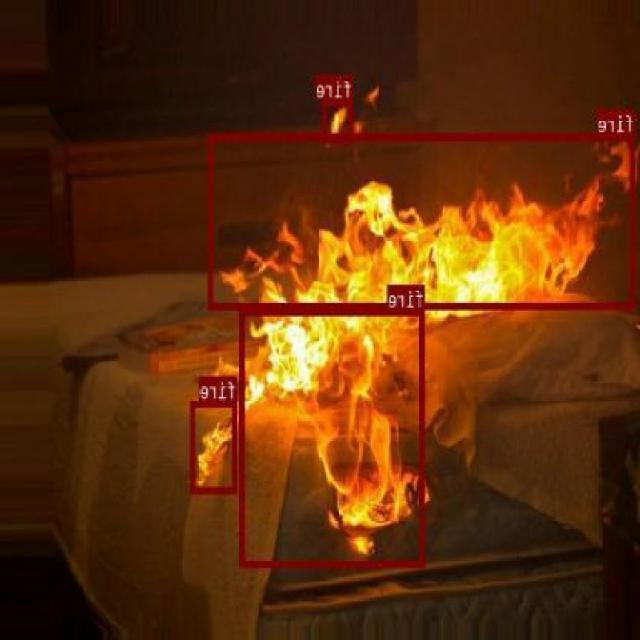Fire: (210, 133, 636, 310), (242, 308, 426, 566), (192, 399, 238, 493), (323, 98, 354, 142)
